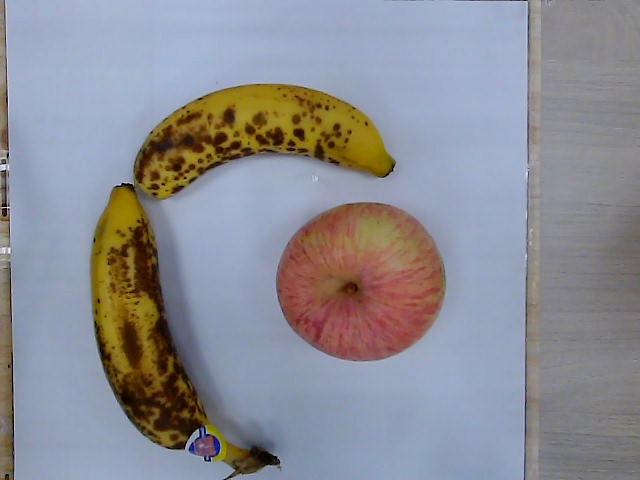fresh_apple: (276, 202, 446, 362)
rotten_banana: (91, 184, 281, 476), (133, 83, 396, 198)
